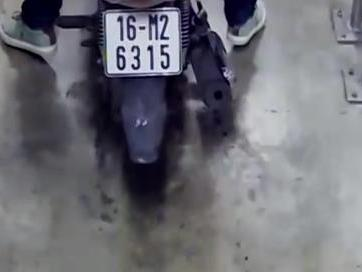num_plate: (103, 8, 181, 75)
